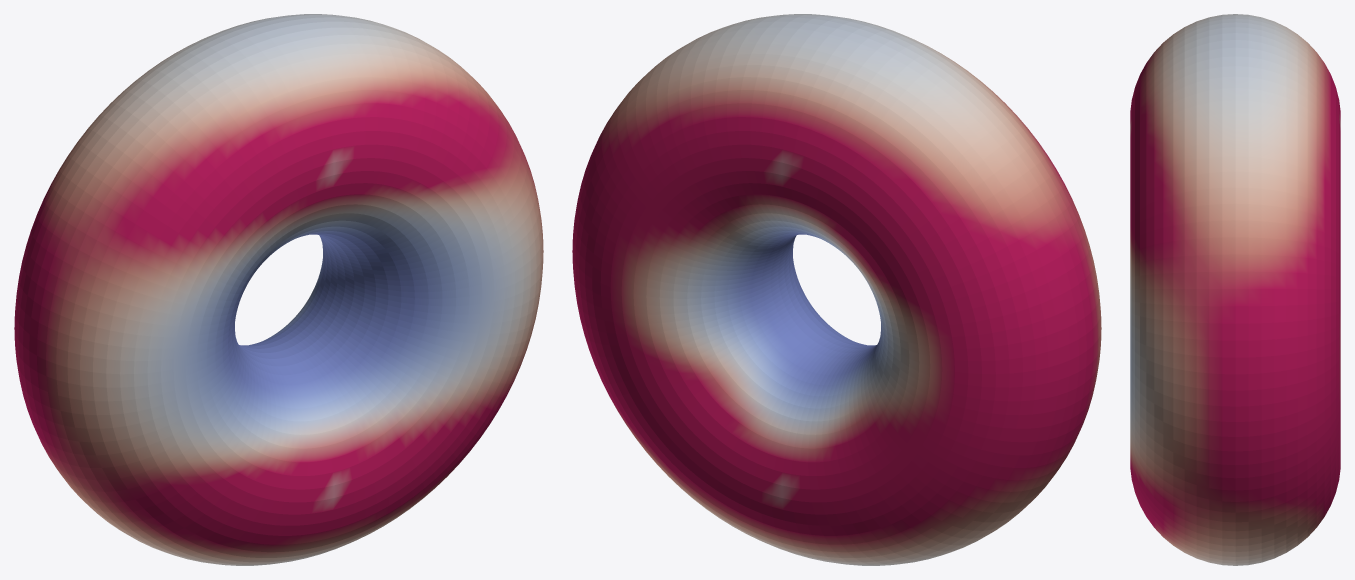
The picture shows the model from 3 angles, left to right: view 1: azimuth 30°, elevation 25°; view 2: azimuth 150°, elevation 25°; view 3: azimuth 270°, elevation 25°; orthographic projection. The views are drawn at different scales.
Visible parts, largest first — view 1: world; view 2: world; view 3: world.
Part boxes in pixels (x1,y1,x2,y2): world: [14, 14, 543, 565]; world: [572, 14, 1101, 565]; world: [1130, 14, 1340, 565].
Size of the model in its own units: 22.67 by 22.67 by 8.65.
